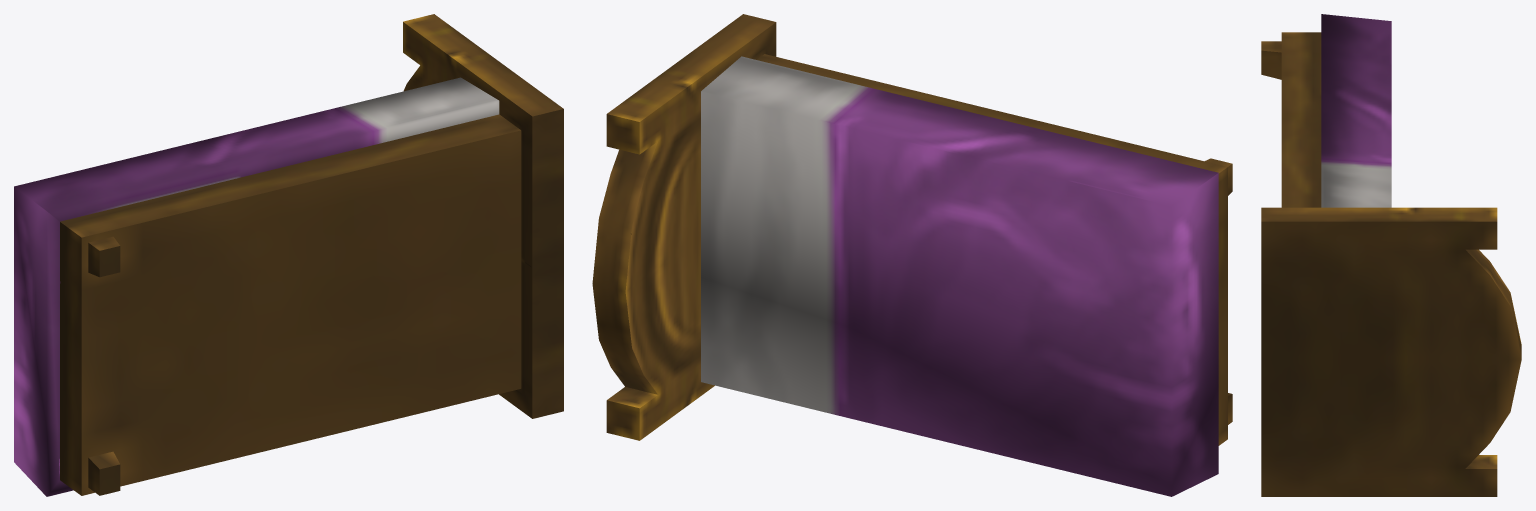
File: props_bed_violet.fbx
3 renders of one model, left to right at view 1: azimuth 30°, elevation 25°; view 2: azimuth 150°, elevation 25°; view 3: azimuth 270°, elevation 25°, orthographic. The views are drawn at different scales.
Visible parts, largest first — view 1: bed_violet; view 2: bed_violet; view 3: bed_violet.
Boxes of the visible parts, x1,y1,x2,y2 form: bed_violet: (14, 14, 563, 496); bed_violet: (592, 14, 1232, 496); bed_violet: (1261, 14, 1521, 496).
Size of the model in its own units: 2.14 by 1.28 by 1.09.
Materials: 1 (1 with a texture image).
